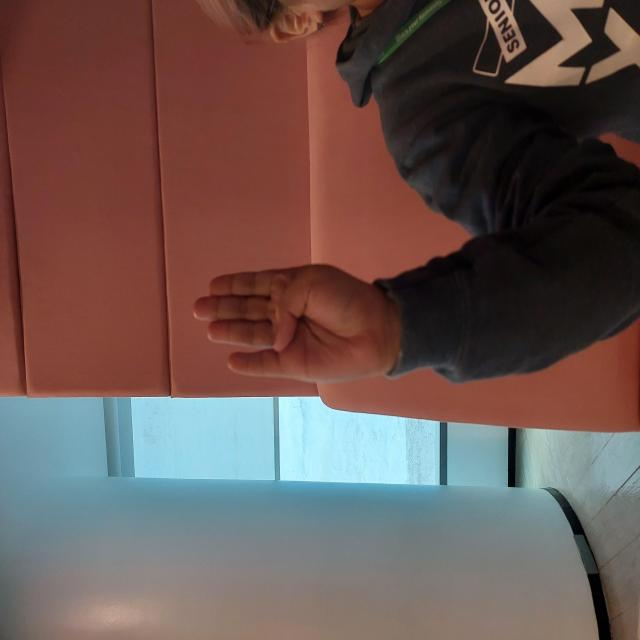B: (252, 188, 382, 394)
